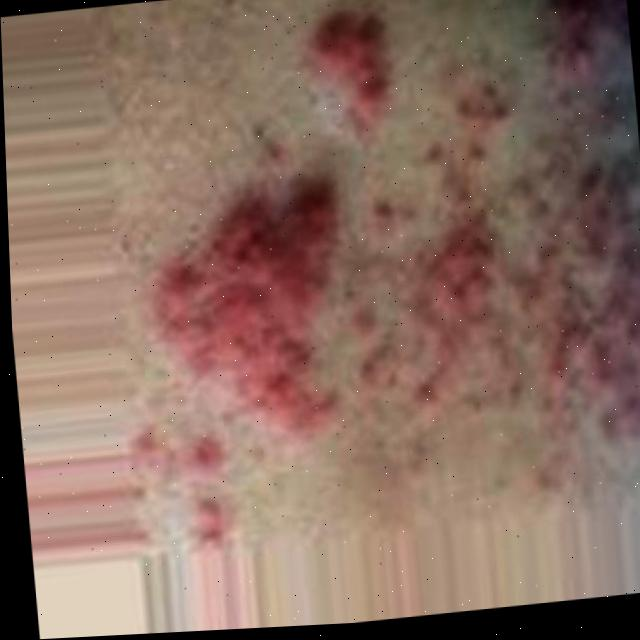Shingles: (374, 107, 640, 423), (125, 174, 357, 444), (305, 12, 375, 118)
